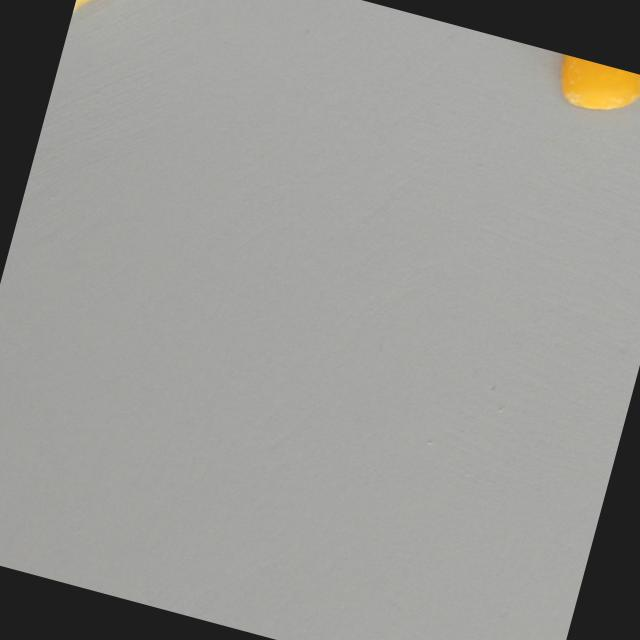pelicula: (541, 52, 640, 127)
